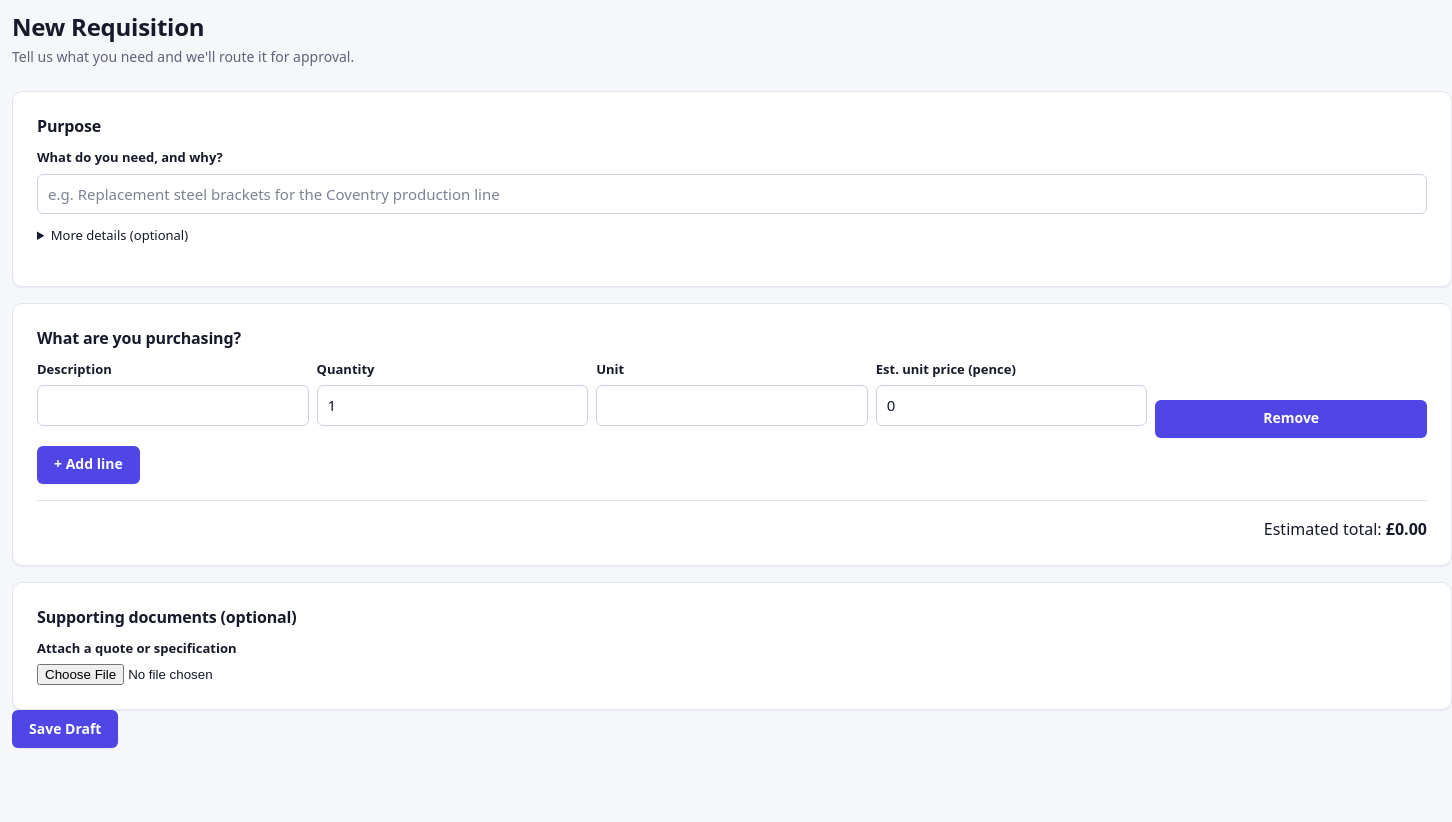
Test: NewRequisitionPage (item 6 - the most important screen) › VALIDATION: rejects submission with no purpose explained
Click the button "Save Draft": (65, 729) [12,710,118,748]
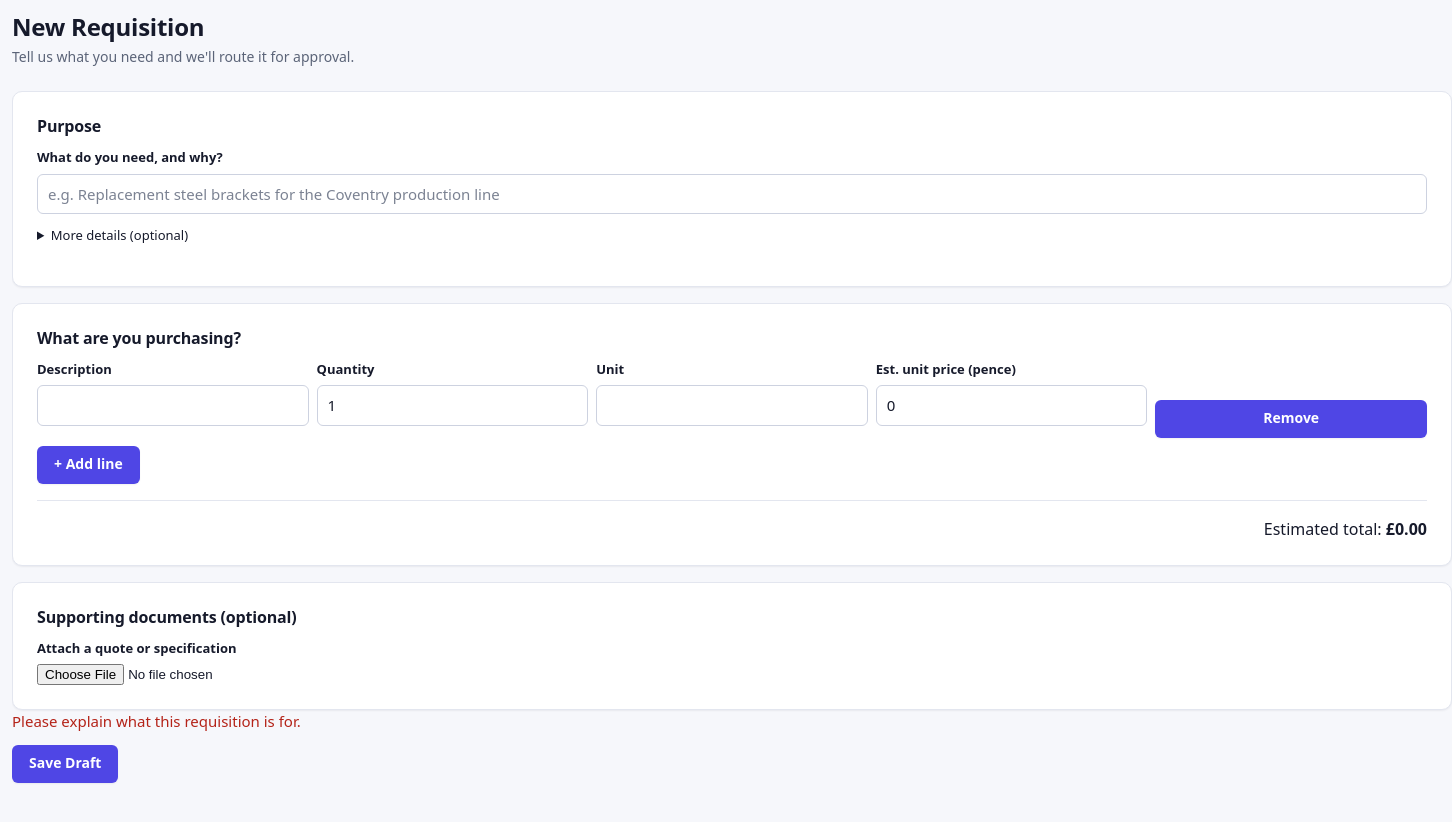
Check: the message shows "explain what this requisition is for", box [12,711,301,731]
